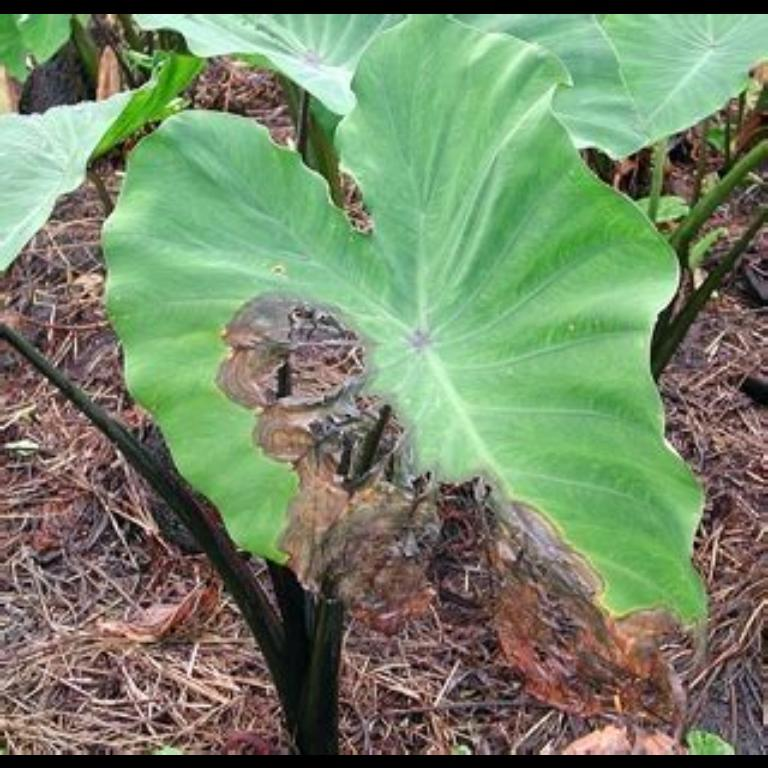blight: (223, 258, 295, 476), (292, 487, 412, 605)
